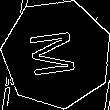M_E: (29, 27, 85, 80)
